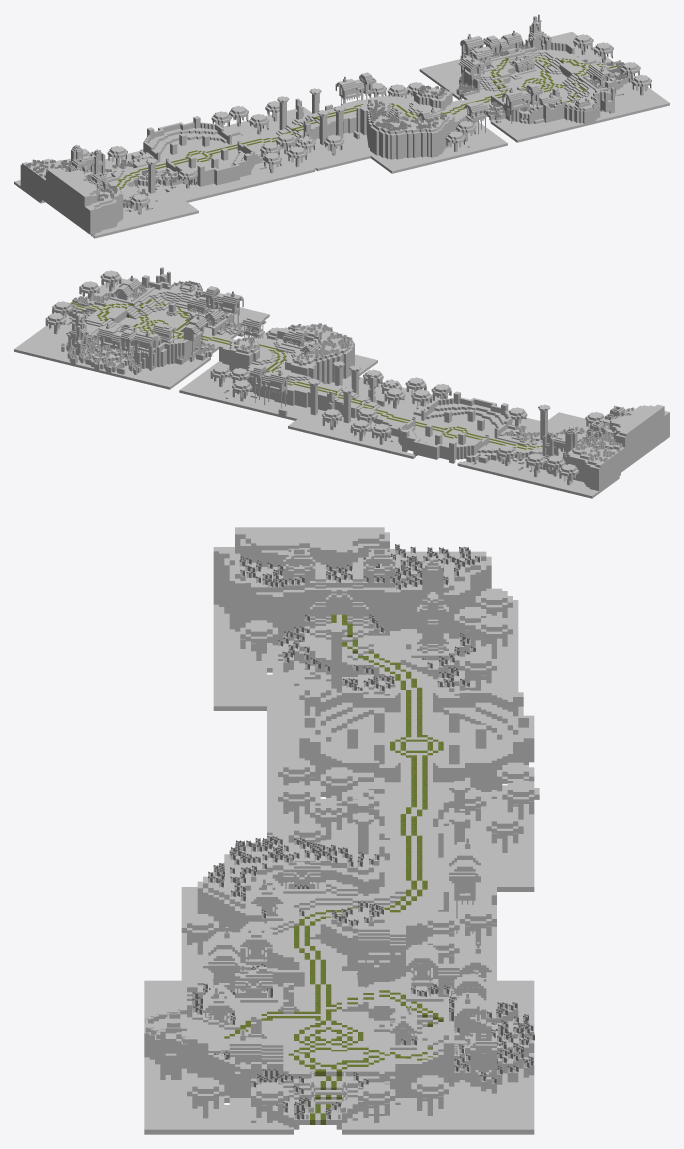
File: SoggySwamp.fbx
The picture shows the model from 3 angles, top to bottom: view 1: azimuth 30°, elevation 25°; view 2: azimuth 150°, elevation 25°; view 3: azimuth 270°, elevation 25°; orthographic projection. The views are drawn at different scales.
Visible parts, largest first — view 1: SoggySwamp__539_30_-563_to_585_319_-507, SoggySwamp__339_30_-567_to_404_319_-533, SoggySwamp__339_30_-532_to_404_319_-495, SoggySwamp__459_30_-553_to_500_319_-503, SoggySwamp__408_30_-552_to_457_319_-522, SoggySwamp__501_30_-553_to_538_319_-504, SoggySwamp__408_30_-521_to_457_319_-494; view 2: SoggySwamp__539_30_-563_to_585_319_-507, SoggySwamp__339_30_-532_to_404_319_-495, SoggySwamp__459_30_-553_to_500_319_-503, SoggySwamp__339_30_-567_to_404_319_-533, SoggySwamp__501_30_-553_to_538_319_-504, SoggySwamp__408_30_-521_to_457_319_-494, SoggySwamp__408_30_-552_to_457_319_-522; view 3: SoggySwamp__539_30_-563_to_585_319_-507, SoggySwamp__339_30_-532_to_404_319_-495, SoggySwamp__339_30_-567_to_404_319_-533, SoggySwamp__501_30_-553_to_538_319_-504, SoggySwamp__459_30_-553_to_500_319_-503, SoggySwamp__408_30_-552_to_457_319_-522, SoggySwamp__408_30_-521_to_457_319_-494.
Boxes of the visible parts, x1,y1,x2,y2 form: SoggySwamp__539_30_-563_to_585_319_-507: (14,144,198,238); SoggySwamp__339_30_-567_to_404_319_-533: (471,62,669,142); SoggySwamp__339_30_-532_to_404_319_-495: (419,14,620,101); SoggySwamp__459_30_-553_to_500_319_-503: (211,88,370,181); SoggySwamp__408_30_-552_to_457_319_-522: (351,90,507,173); SoggySwamp__501_30_-553_to_538_319_-504: (127,116,273,202); SoggySwamp__408_30_-521_to_457_319_-494: (325,72,452,140); SoggySwamp__539_30_-563_to_585_319_-507: (481,404,669,498); SoggySwamp__339_30_-532_to_404_319_-495: (14,301,221,389); SoggySwamp__459_30_-553_to_500_319_-503: (288,361,451,452); SoggySwamp__339_30_-567_to_404_319_-533: (69,267,269,344); SoggySwamp__501_30_-553_to_538_319_-504: (387,391,540,471); SoggySwamp__408_30_-521_to_457_319_-494: (179,338,328,420); SoggySwamp__408_30_-552_to_457_319_-522: (218,316,377,385); SoggySwamp__539_30_-563_to_585_319_-507: (213,527,518,710); SoggySwamp__339_30_-532_to_404_319_-495: (331,915,534,1134); SoggySwamp__339_30_-567_to_404_319_-533: (144,927,331,1134); SoggySwamp__501_30_-553_to_538_319_-504: (267,681,534,796); SoggySwamp__459_30_-553_to_500_319_-503: (267,758,539,891); SoggySwamp__408_30_-552_to_457_319_-522: (181,836,347,980); SoggySwamp__408_30_-521_to_457_319_-494: (347,837,496,980).
Bounding box in the file's own units: 24311 × 2101 × 7400.
